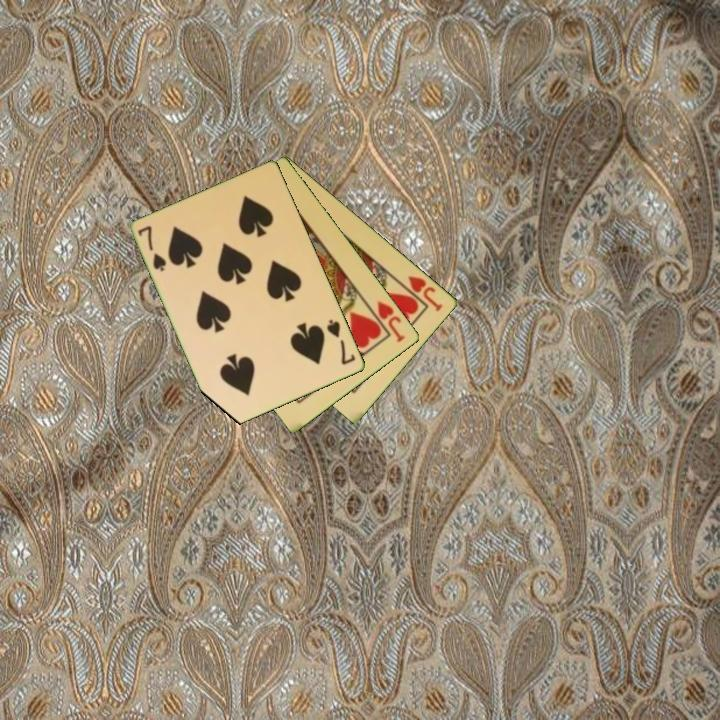7s: (134, 222, 170, 275), (323, 316, 359, 368)
Jh: (405, 272, 446, 314), (374, 297, 408, 345)
